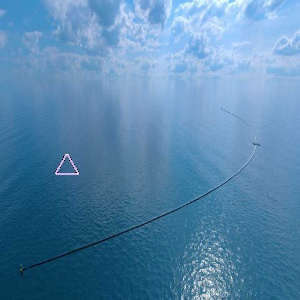triangle: (52, 150, 81, 177)
